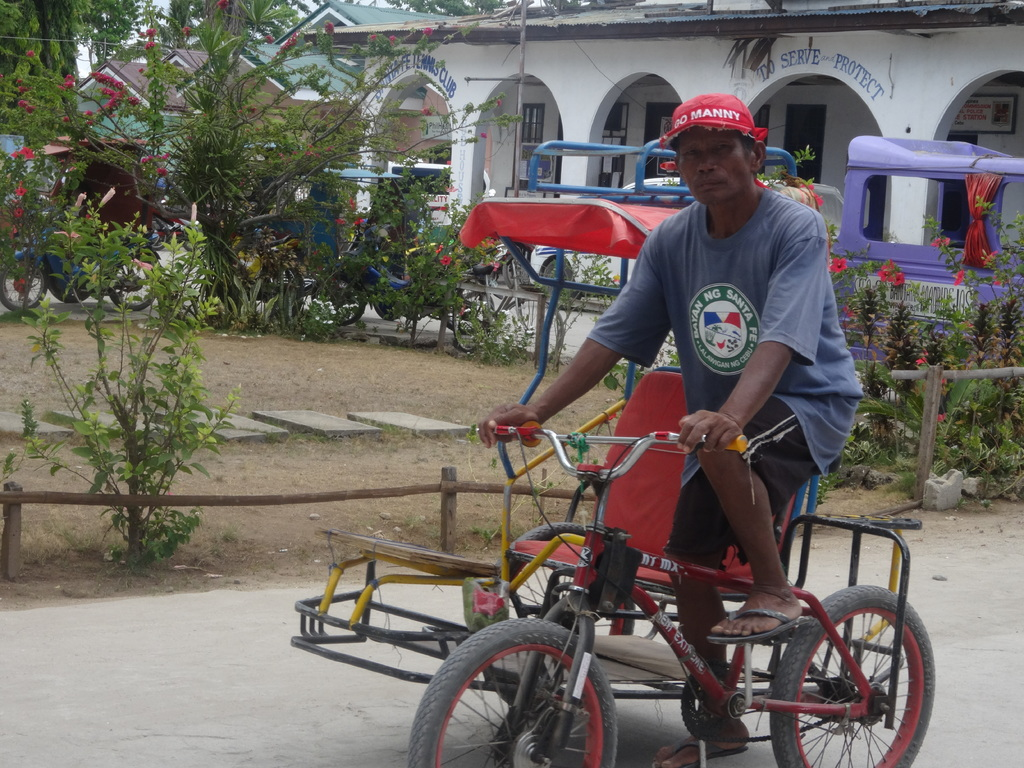Bike_toward: (422, 451, 752, 768)
